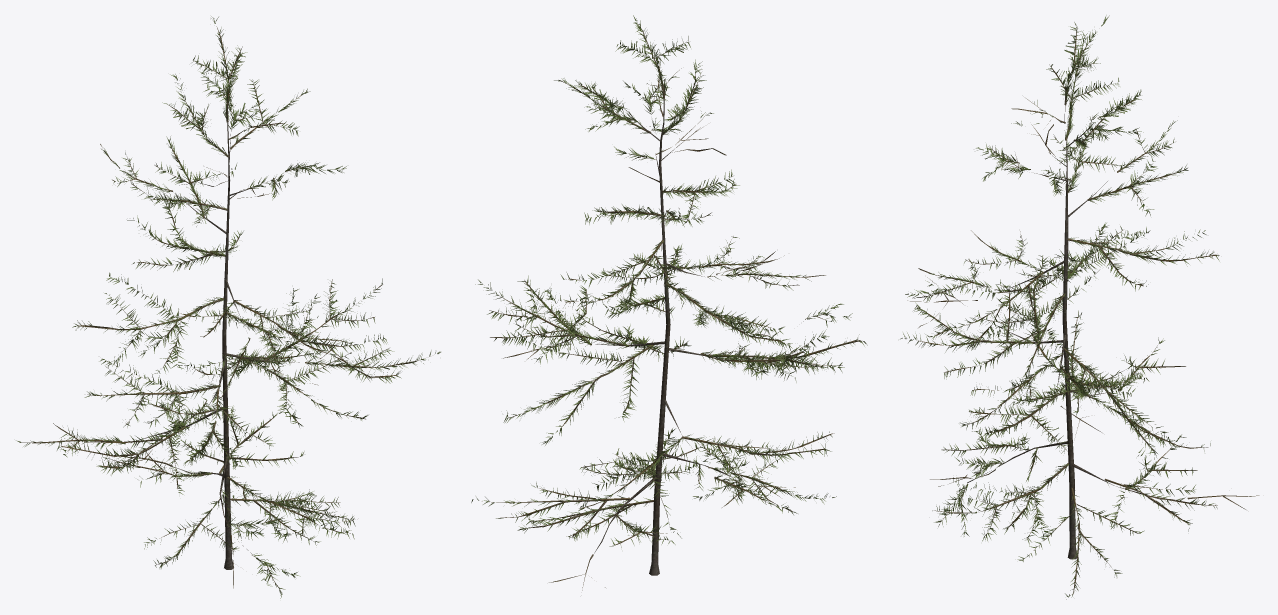
File: fir-sapling.glb
3 views of the same model, side by side, from view 1: azimuth 30°, elevation 25°; view 2: azimuth 150°, elevation 25°; view 3: azimuth 270°, elevation 25° (orthographic). The views are drawn at different scales.
Parts seen in each view (by area): view 1: fir_sapling_a; view 2: fir_sapling_a; view 3: fir_sapling_a.
Part boxes in pixels (x1,y1,x2,y2): fir_sapling_a: (16, 16, 440, 598); fir_sapling_a: (471, 15, 867, 590); fir_sapling_a: (900, 15, 1259, 599).
Size of the model in its own units: 0.8548 by 1.29 by 0.7926.
Materials: 1 (1 with a texture image).
